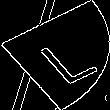L_NW: (18, 26, 92, 84)
